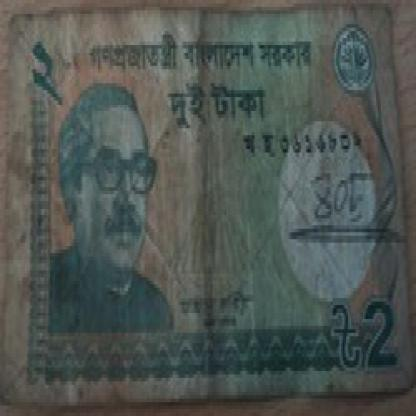two taka: (160, 76, 268, 125), (26, 42, 72, 114)
